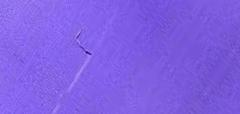snag: (73, 28, 96, 60)
